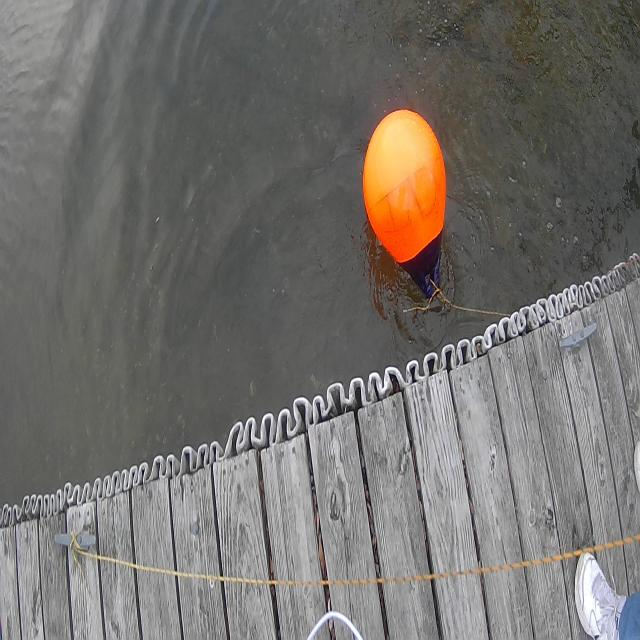Buoy: (358, 96, 454, 311)
